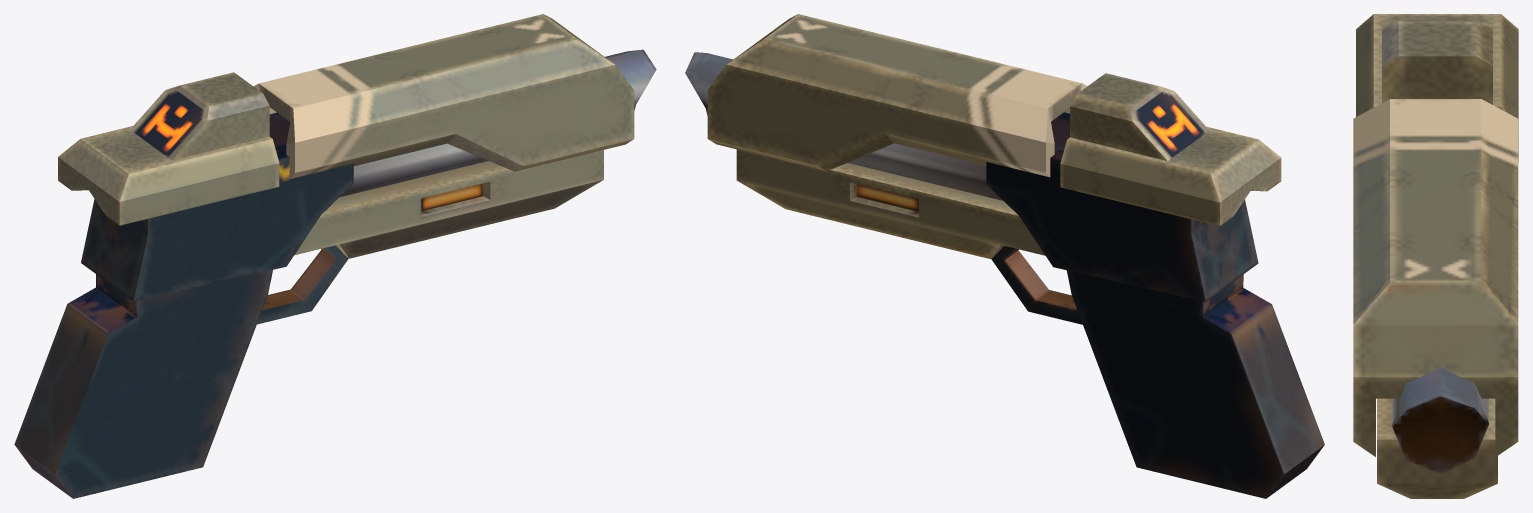
File: SM_Pistol_01.fbx
The picture shows the model from 3 angles, left to right: view 1: azimuth 30°, elevation 25°; view 2: azimuth 150°, elevation 25°; view 3: azimuth 270°, elevation 25°; orthographic projection. The views are drawn at different scales.
Visible parts, largest first — view 1: SM_PISTOL; view 2: SM_PISTOL; view 3: SM_PISTOL.
Part boxes in pixels (x1,y1,x2,y2): SM_PISTOL: (14,14,656,498); SM_PISTOL: (685,14,1324,498); SM_PISTOL: (1353,14,1518,498).
Bounding box in the file's own units: 0.2708 × 0.1499 × 0.0482.
